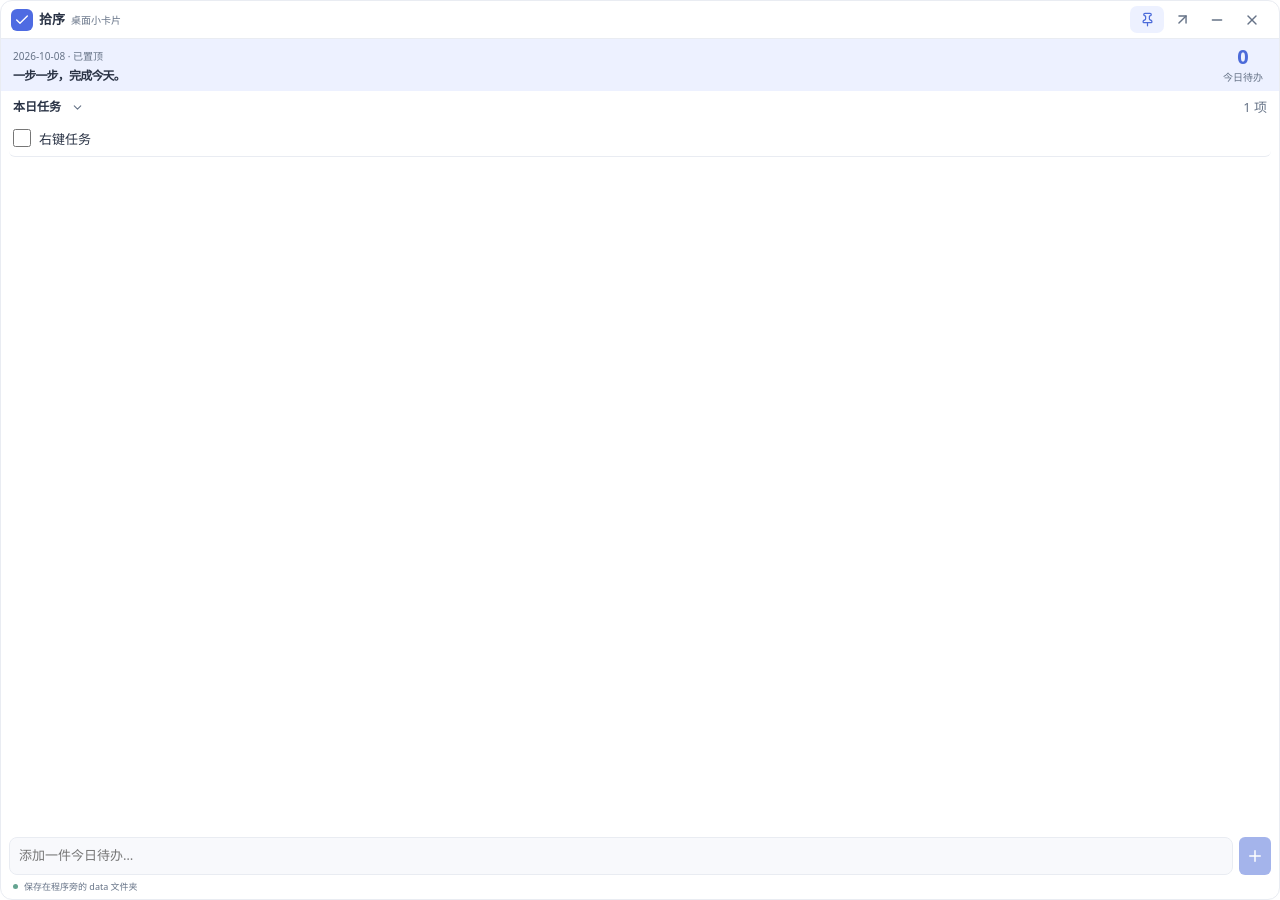
Test: 任务右键只显示管理菜单，编辑和删除使用正确任务，Esc可关闭
Step 1. Right-click the button "右键任务" → [65, 140], box [39, 130, 91, 150]
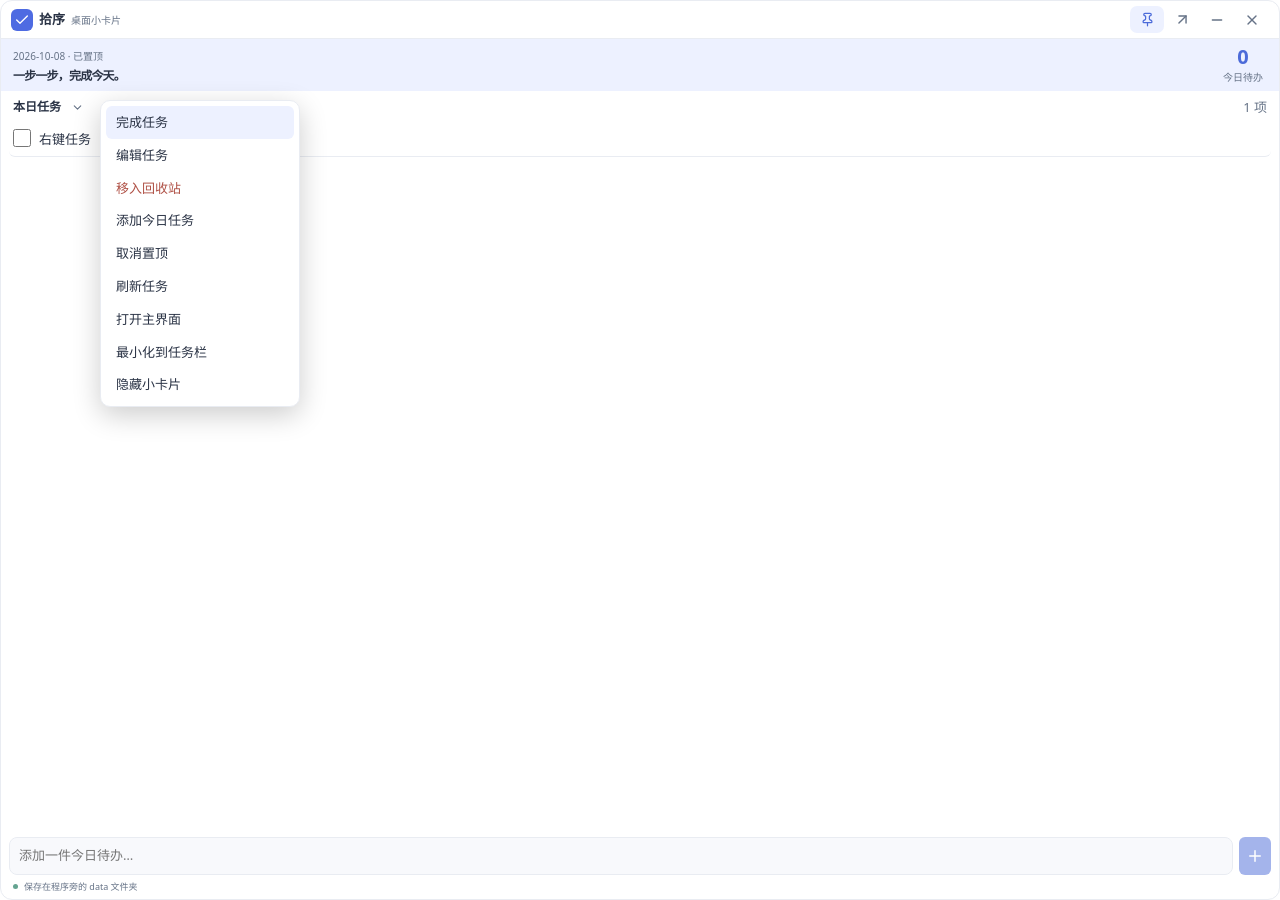
Step 2. Click the menu item "编辑任务" → [200, 155], box [106, 139, 294, 172]
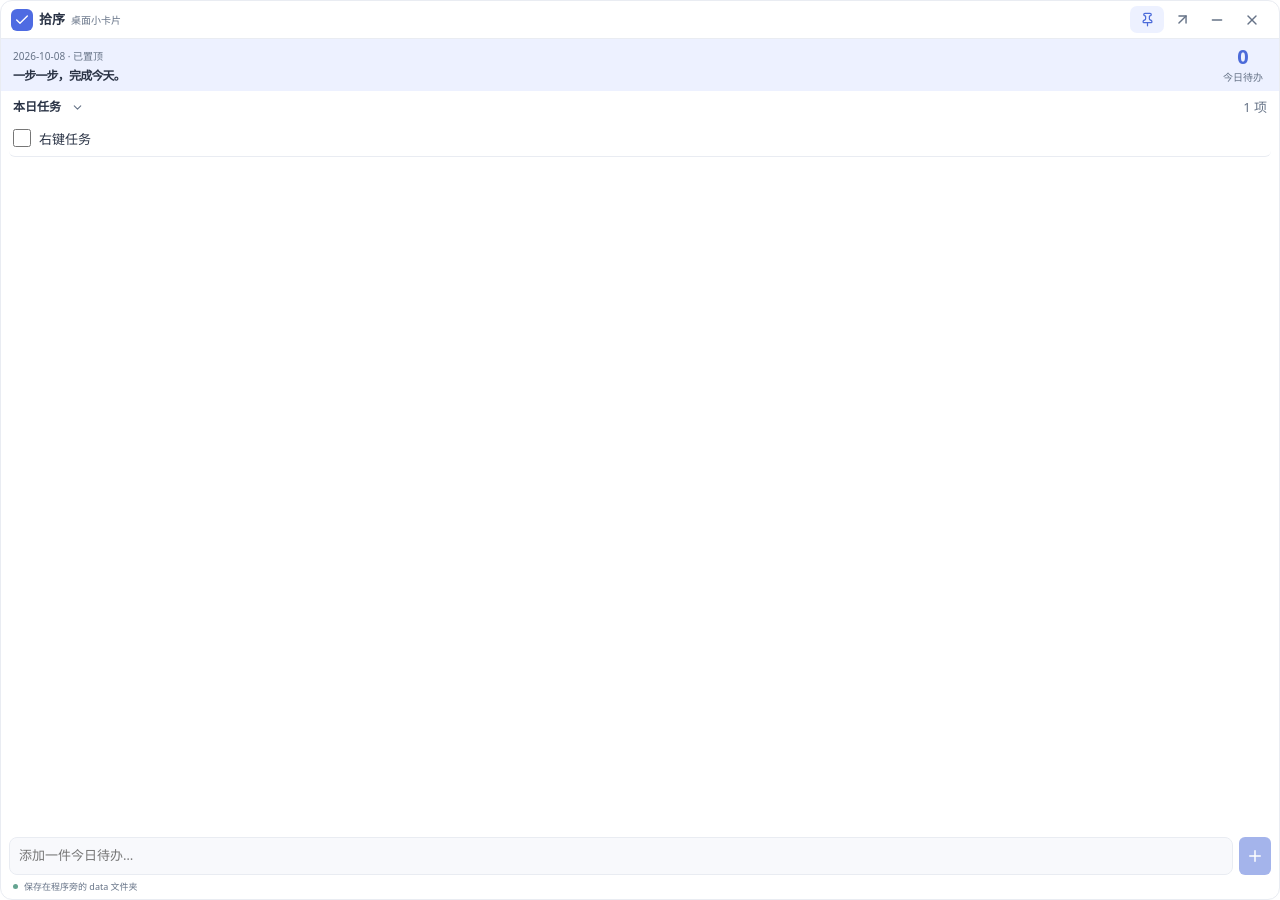
Step 3. Right-click the button "右键任务" → [65, 140], box [39, 130, 91, 150]
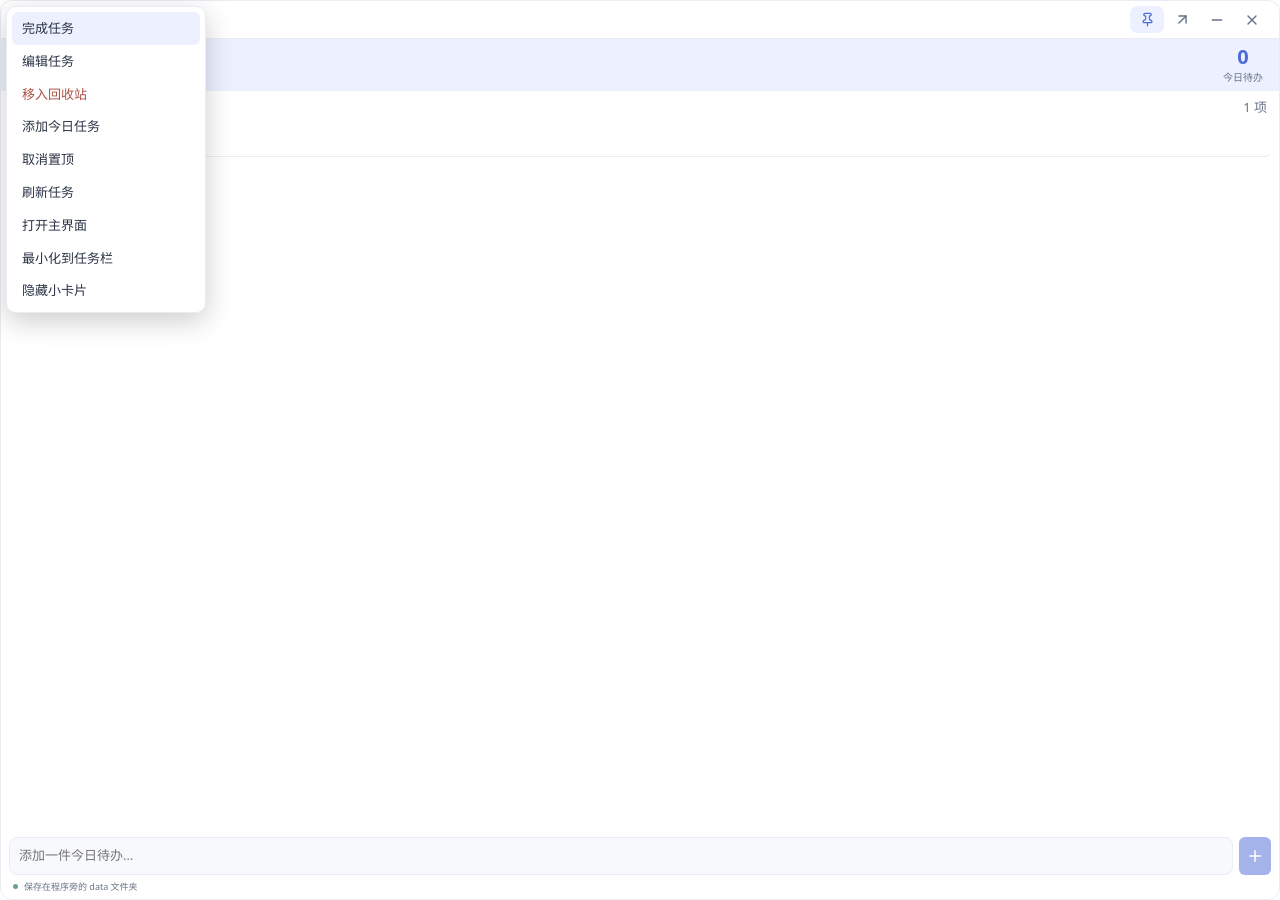
Step 4. Press Escape
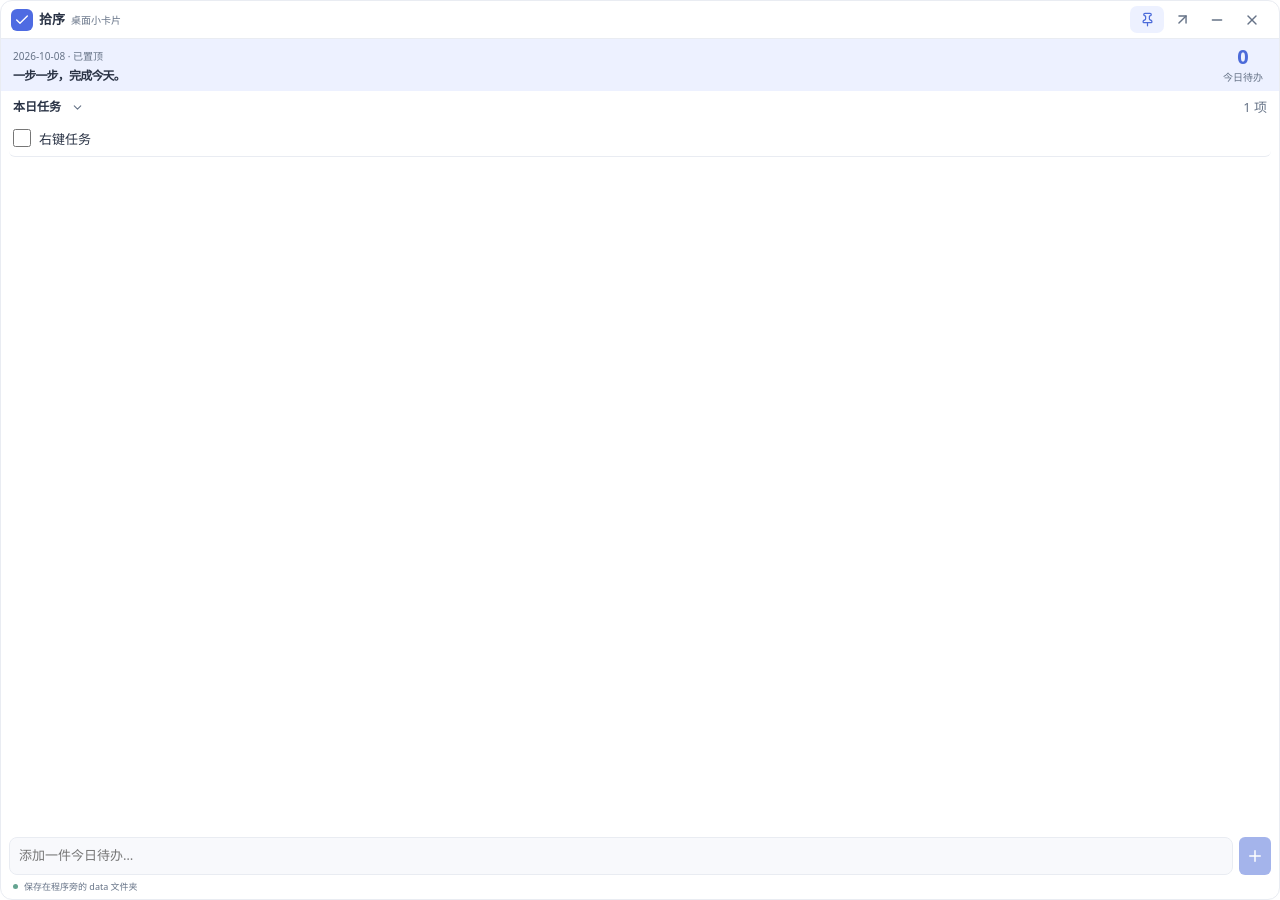
Expected: the menu is gone
Step 5. Right-click the button "右键任务" → [65, 140], box [39, 130, 91, 150]
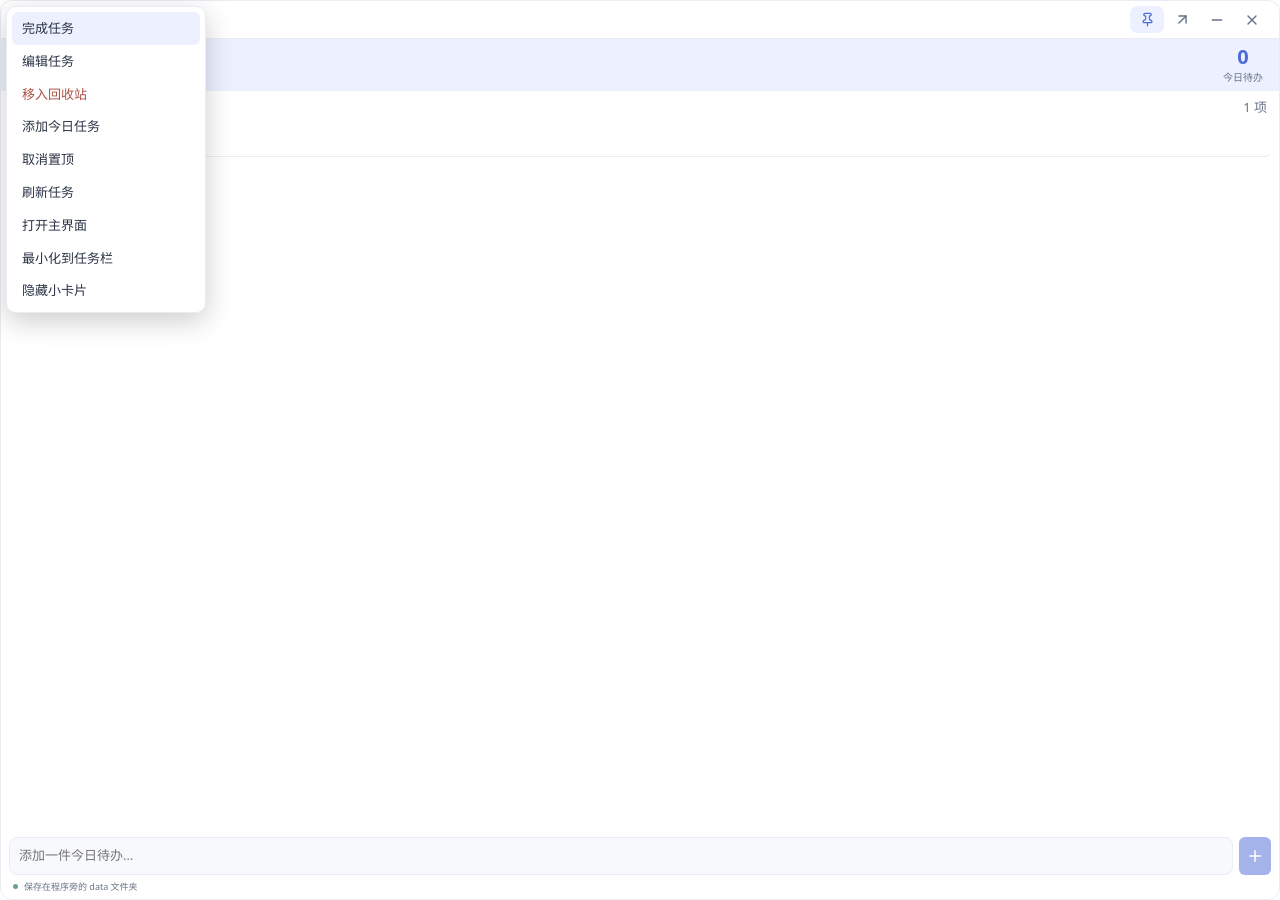
Step 6. Click the menu item "移入回收站" → [106, 94], box [12, 78, 200, 110]
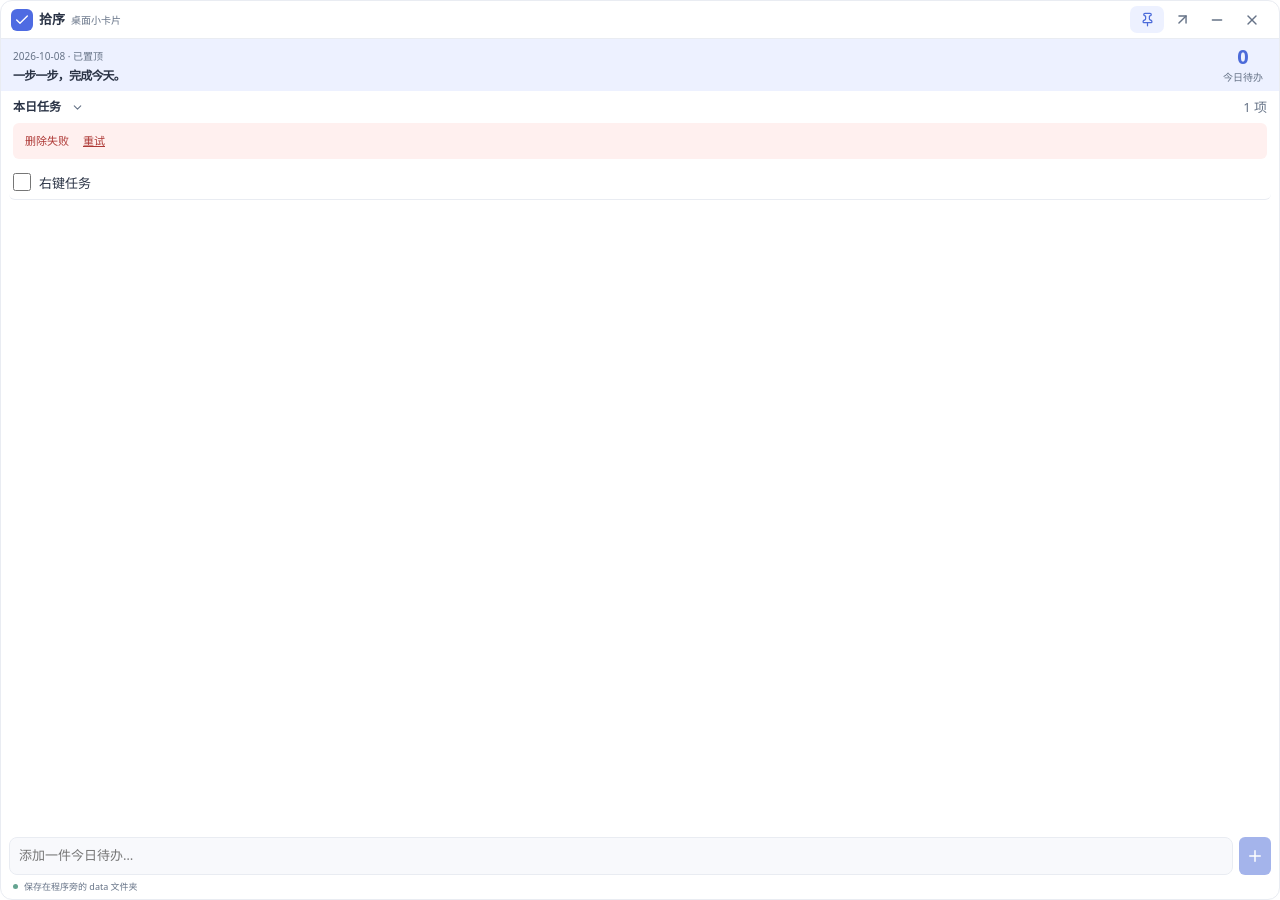
Expected: the button "右键任务" is shown, [39, 174, 91, 193]
Expected: the message shows "删除失败", [25, 133, 69, 148]
